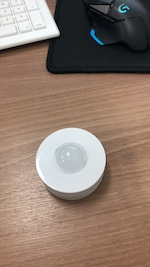bulb: (35, 127, 107, 202)
